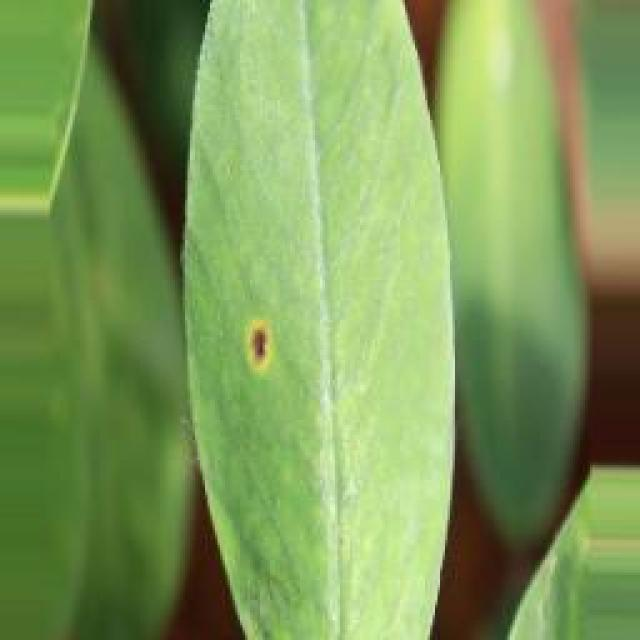Sigatoka: (240, 302, 276, 372)
